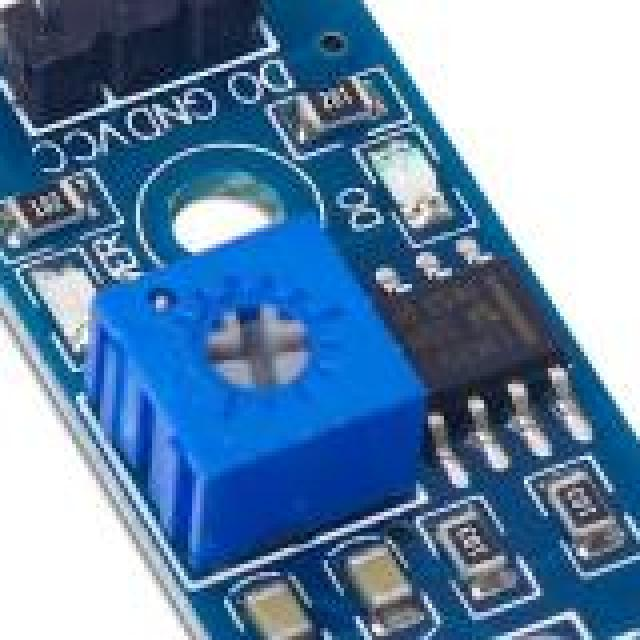IC: (392, 240, 580, 430)
LED: (380, 136, 448, 230), (44, 264, 102, 348)
capacitor: (348, 532, 416, 622), (252, 564, 328, 640)
connector: (0, 0, 240, 84)
potentiometer: (88, 216, 426, 514)
resistor: (548, 460, 610, 556), (440, 500, 504, 582), (8, 184, 90, 236), (296, 72, 382, 114)
